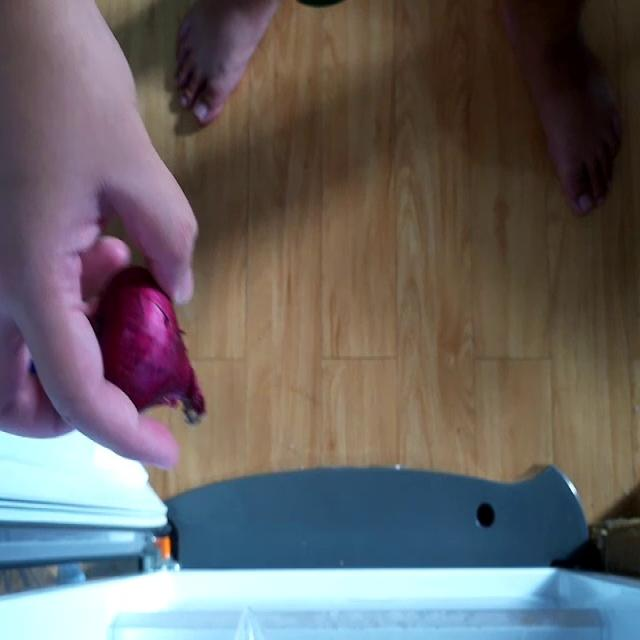onion: (96, 270, 207, 429)
